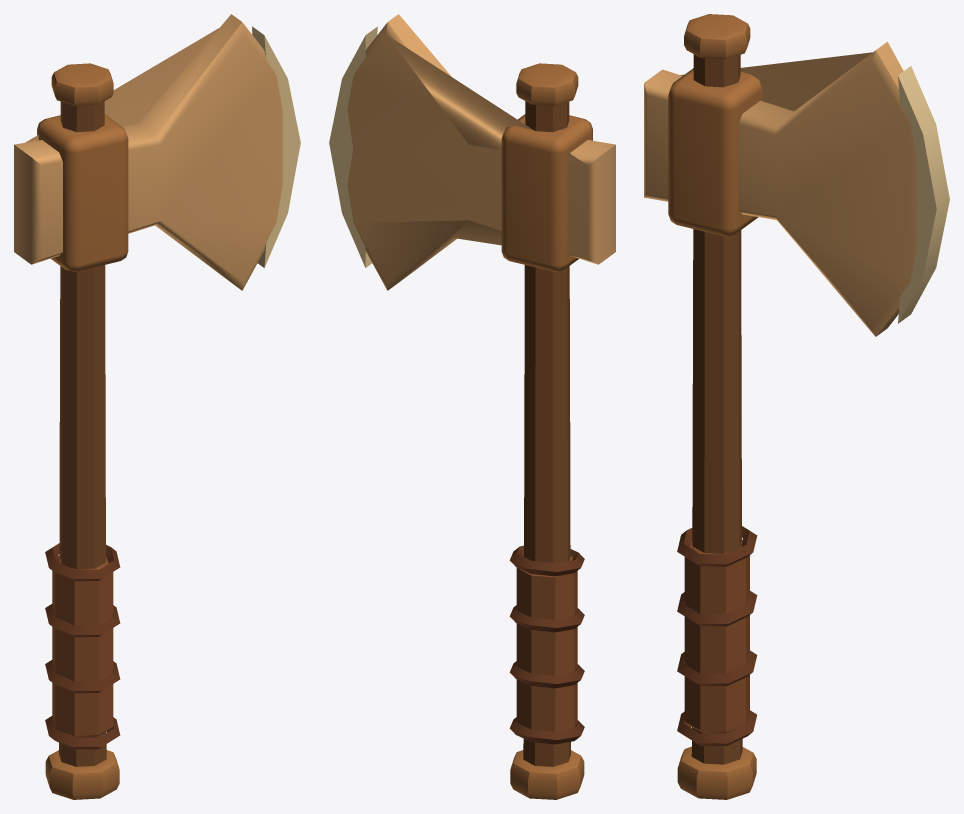
The model's file is WoodAxe.fbx.
3 views of the same model, side by side, from view 1: azimuth 30°, elevation 25°; view 2: azimuth 150°, elevation 25°; view 3: azimuth 330°, elevation 25° (orthographic). The views are drawn at different scales.
Parts seen in each view (by area): view 1: WoodAxe; view 2: WoodAxe; view 3: WoodAxe.
Part boxes in pixels (x1=…): WoodAxe: x1=14, y1=14, x2=300, y2=799; WoodAxe: x1=329, y1=14, x2=615, y2=799; WoodAxe: x1=644, y1=14, x2=949, y2=799.
Size of the model in its own units: 1.27 by 3.27 by 0.3129.
Materials: 1 (1 with a texture image).
